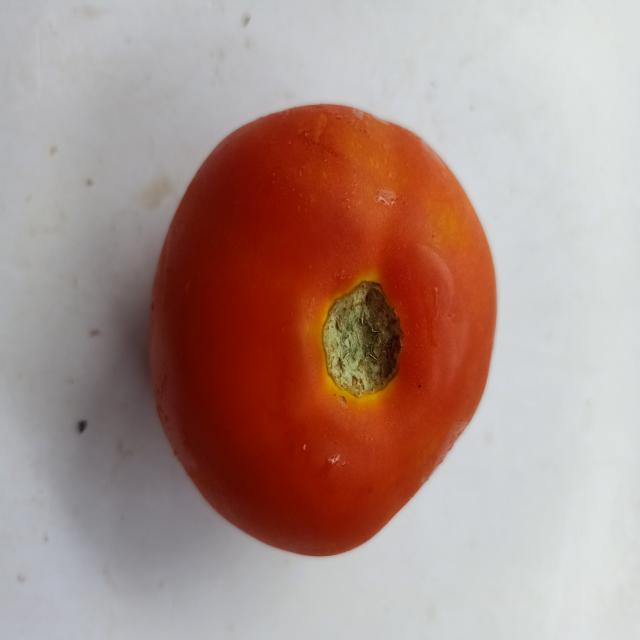Tomato: (141, 86, 506, 578)
